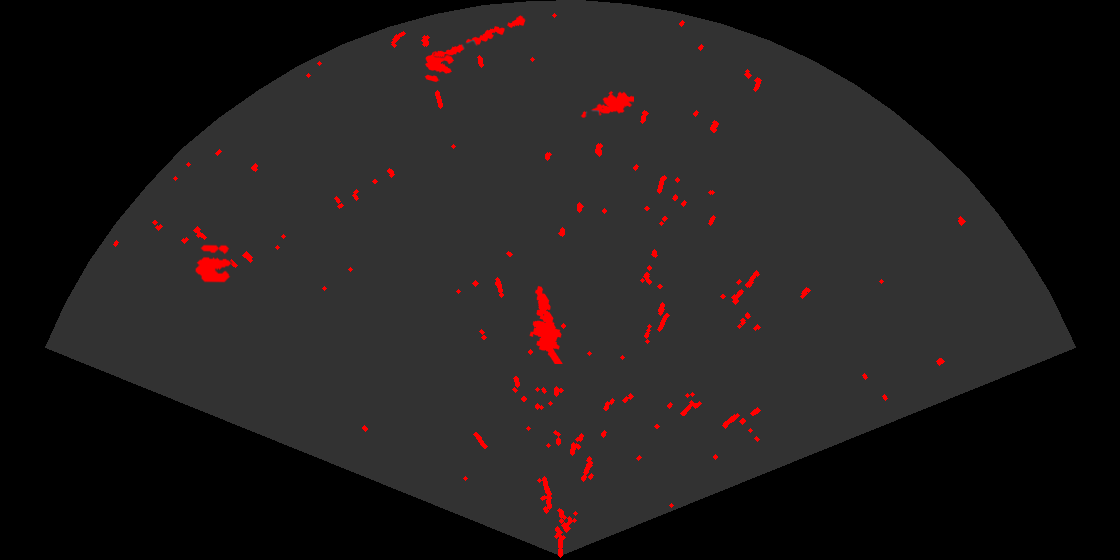ball: (194, 243, 233, 284), (423, 49, 456, 84)
chain: (433, 14, 528, 59)
frogman: (528, 284, 564, 364), (580, 89, 634, 119)
